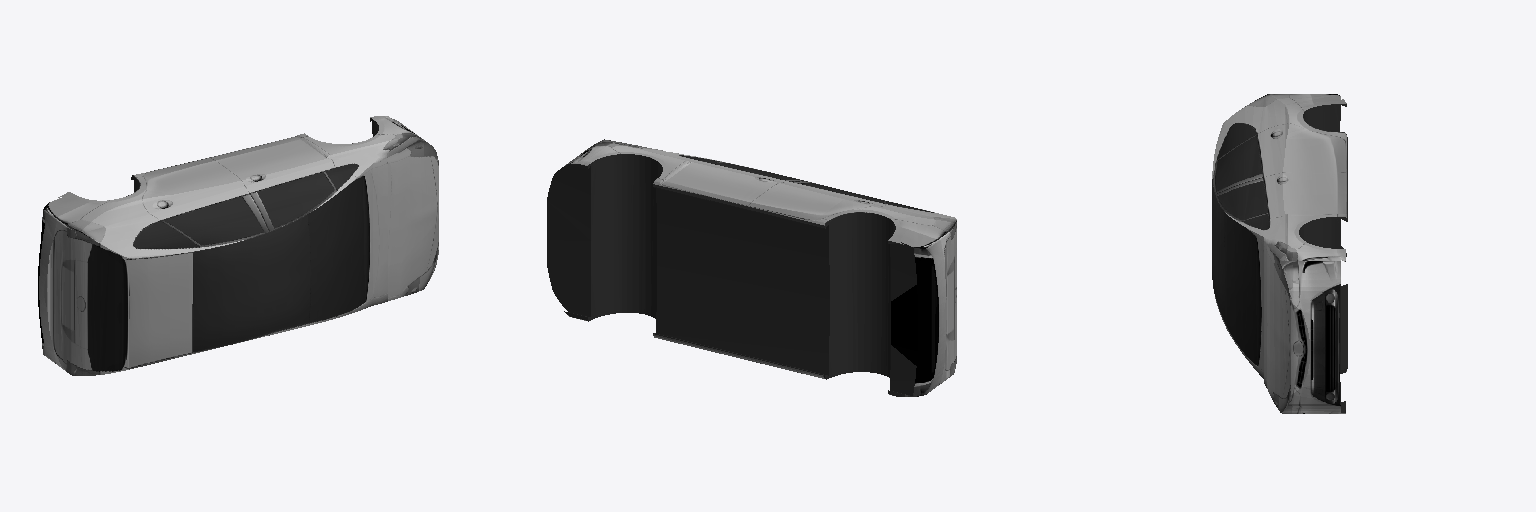
The picture shows the model from 3 angles: view 1: azimuth 30°, elevation 25°; view 2: azimuth 150°, elevation 25°; view 3: azimuth 270°, elevation 25°; orthographic projection.
Visible parts, largest first — view 1: prius_scaled; view 2: prius_scaled; view 3: prius_scaled.
Boxes of the visible parts, x1,y1,x2,y2 form: prius_scaled: [38, 116, 438, 375]; prius_scaled: [547, 139, 956, 396]; prius_scaled: [1212, 94, 1347, 413].
Size of the model in its own units: 4.63 by 1.82 by 1.4.
Materials: 1 (1 with a texture image).